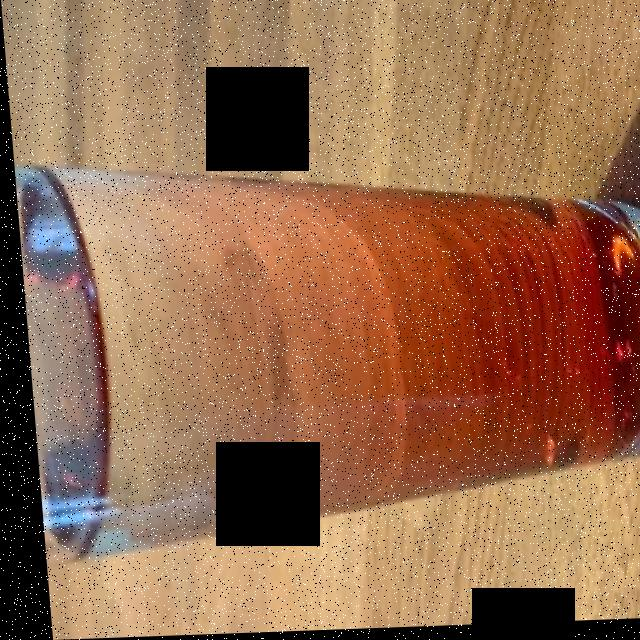syrup-diluted-ready-to-drink: (49, 174, 640, 546)
